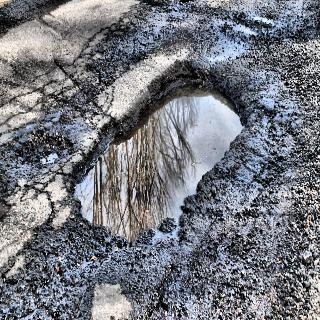pothole: (74, 39, 285, 242), (5, 92, 65, 212)
